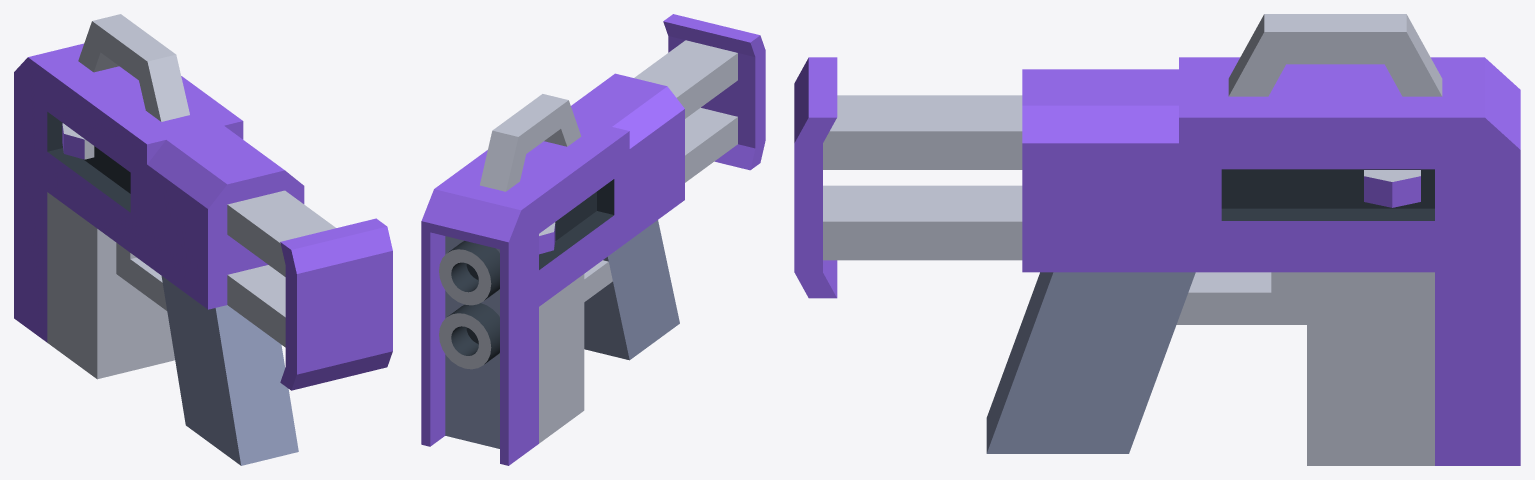
Rendered from blasterI.obj.
3 renders of one model, left to right at view 1: azimuth 30°, elevation 25°; view 2: azimuth 150°, elevation 25°; view 3: azimuth 270°, elevation 25°, orthographic. The views are drawn at different scales.
Parts seen in each view (by area): view 1: blasterI; view 2: blasterI; view 3: blasterI.
Boxes of the visible parts, bbox=[...] form: blasterI: bbox=[14, 14, 392, 465]; blasterI: bbox=[421, 14, 765, 465]; blasterI: bbox=[794, 14, 1520, 465].
Bounding box in the file's own units: 0.1 × 0.32 × 0.51.
